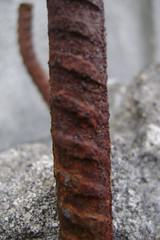Exposed reinforcement: (46, 1, 113, 240), (17, 2, 51, 108)
